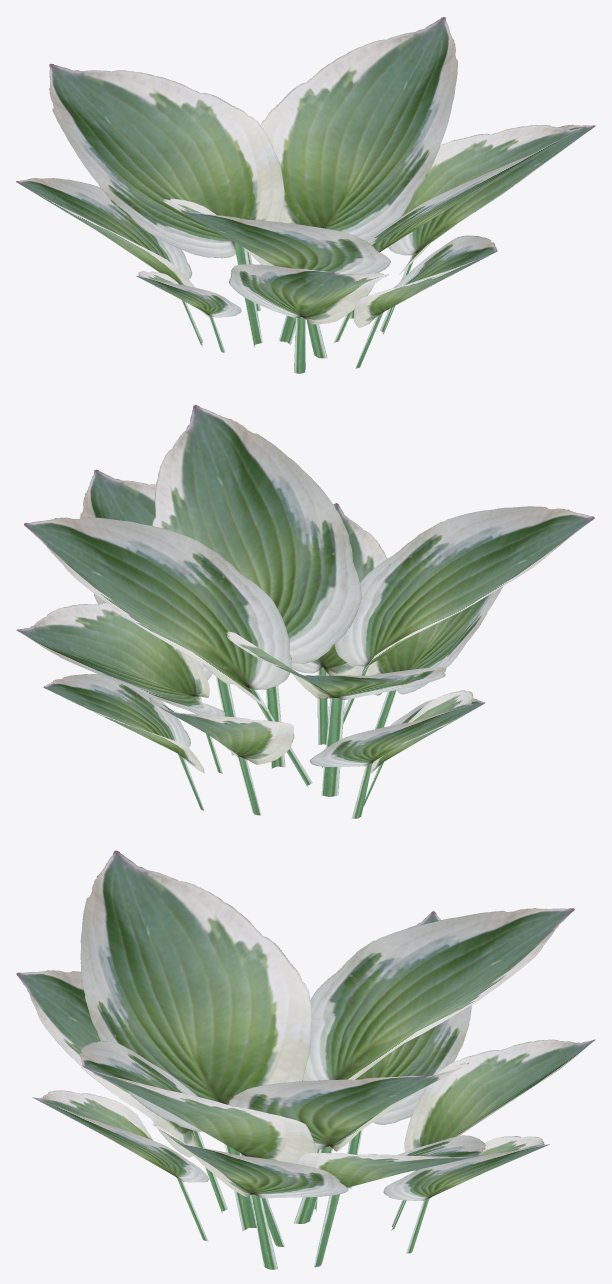
File: plant_small_wg_04.fbx
The picture shows the model from 3 angles, top to bottom: view 1: azimuth 30°, elevation 25°; view 2: azimuth 150°, elevation 25°; view 3: azimuth 270°, elevation 25°; orthographic projection. The views are drawn at different scales.
Visible parts, largest first — view 1: plant_small_wg_04; view 2: plant_small_wg_04; view 3: plant_small_wg_04.
Boxes of the visible parts, x1,y1,x2,y2 form: plant_small_wg_04: (16,17,595,373); plant_small_wg_04: (16,405,594,818); plant_small_wg_04: (16,850,595,1269).
Bounding box in the file's own units: 117 × 56.49 × 110.
